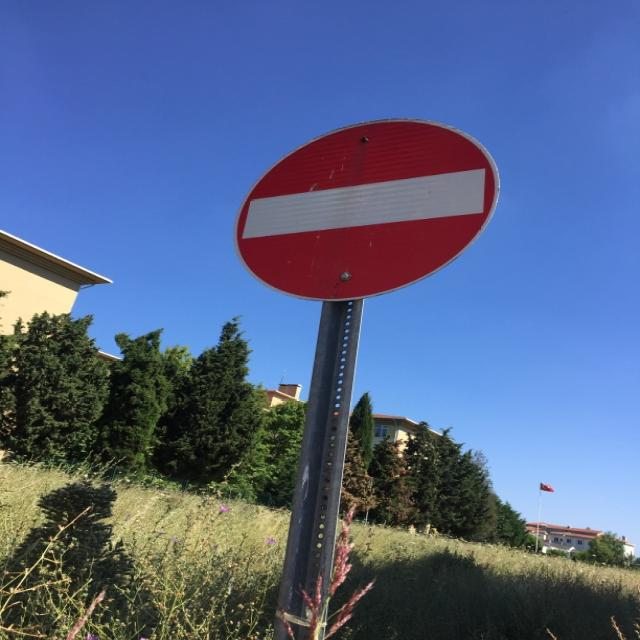girisyok: (235, 118, 500, 302)
